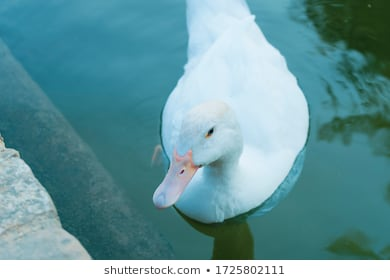duck: (115, 16, 336, 229)
